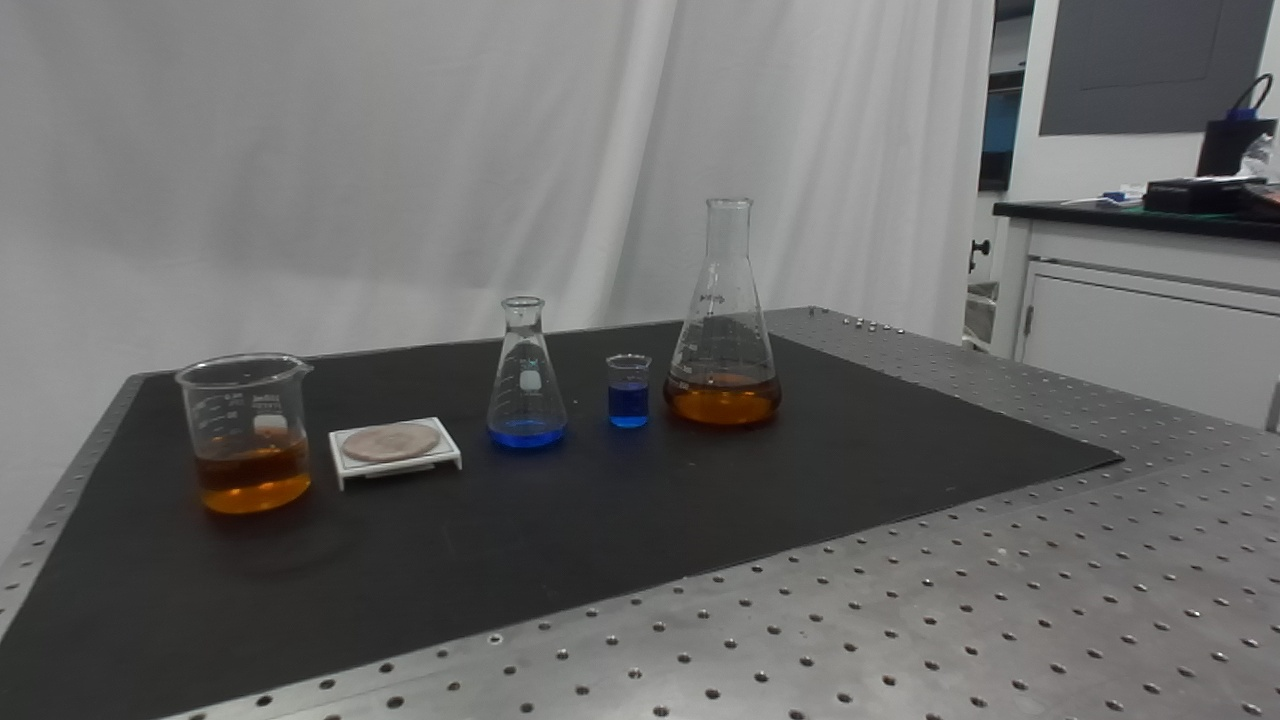glass: (660, 192, 784, 431), (172, 353, 317, 518), (475, 286, 571, 454), (601, 352, 656, 435)
plate: (329, 417, 466, 490)
